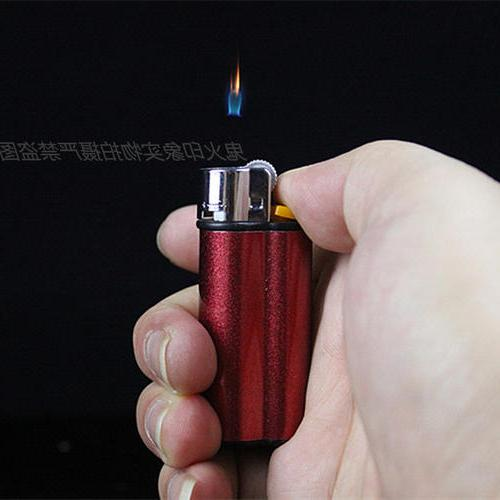fire: (205, 56, 257, 123)
